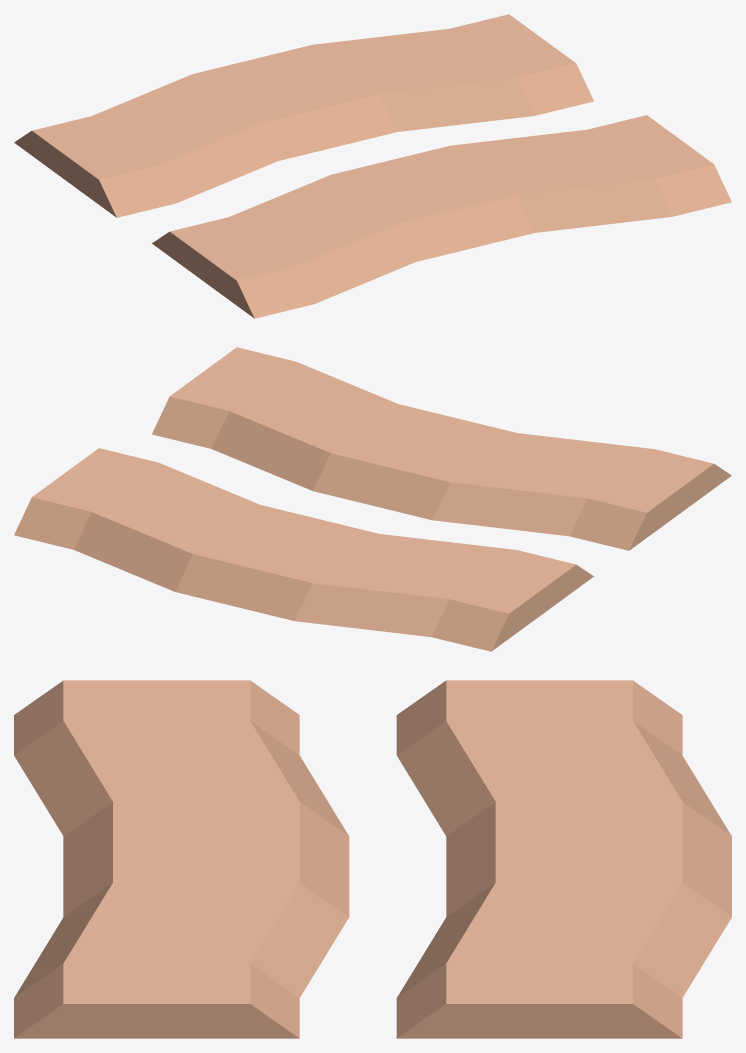
The model's file is crops_dirtDoubleRow.gltf.
3 renders of one model, top to bottom at view 1: azimuth 30°, elevation 25°; view 2: azimuth 150°, elevation 25°; view 3: azimuth 270°, elevation 25°, orthographic. The views are drawn at different scales.
Parts seen in each view (by area): view 1: crops_dirtDoubleRow; view 2: crops_dirtDoubleRow; view 3: crops_dirtDoubleRow.
Part boxes in pixels (x1,y1,x2,y2): crops_dirtDoubleRow: (14, 14, 731, 318); crops_dirtDoubleRow: (14, 347, 731, 651); crops_dirtDoubleRow: (14, 680, 731, 1038).
Size of the model in its own units: 1 by 0.05 by 0.938.
